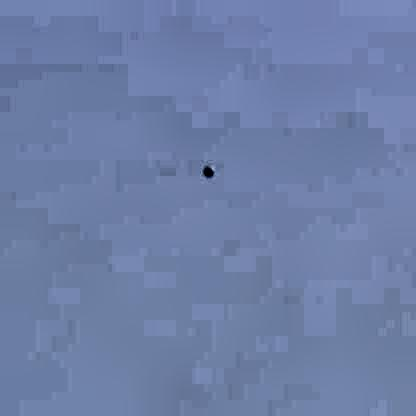golfball: (199, 163, 215, 176)
